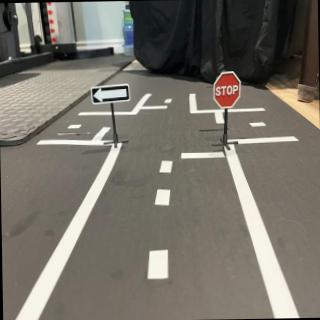sign_oneway_left: (92, 85, 132, 106)
sign_stop: (214, 73, 241, 108)
